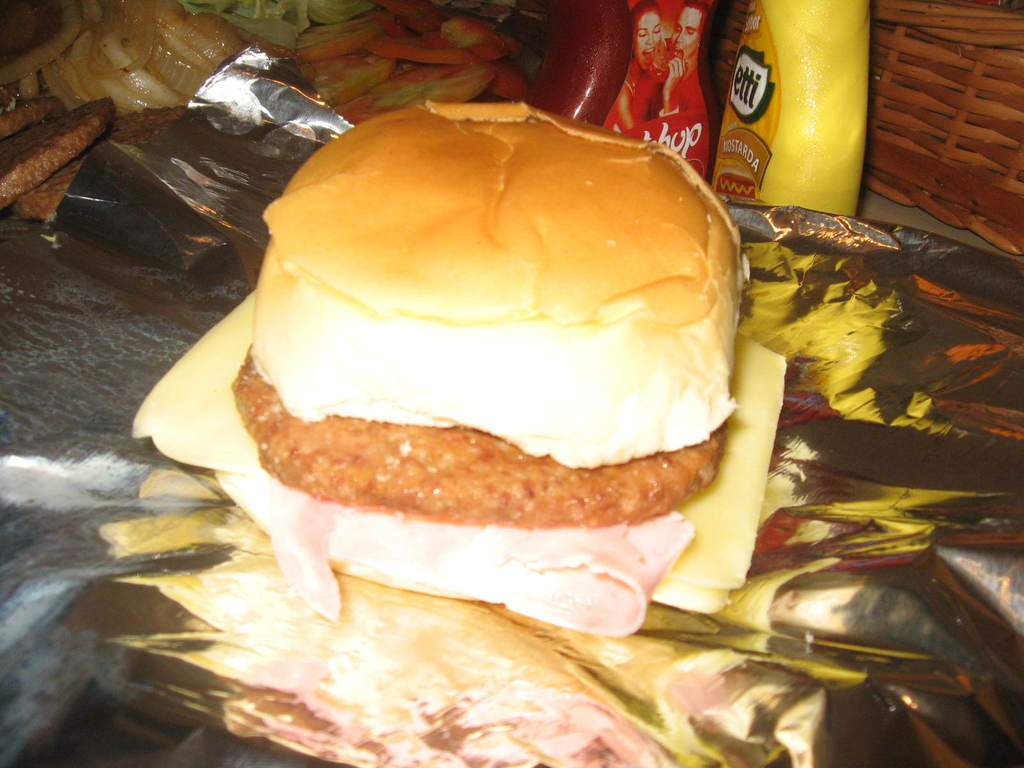Hamburger: (130, 99, 791, 621)
